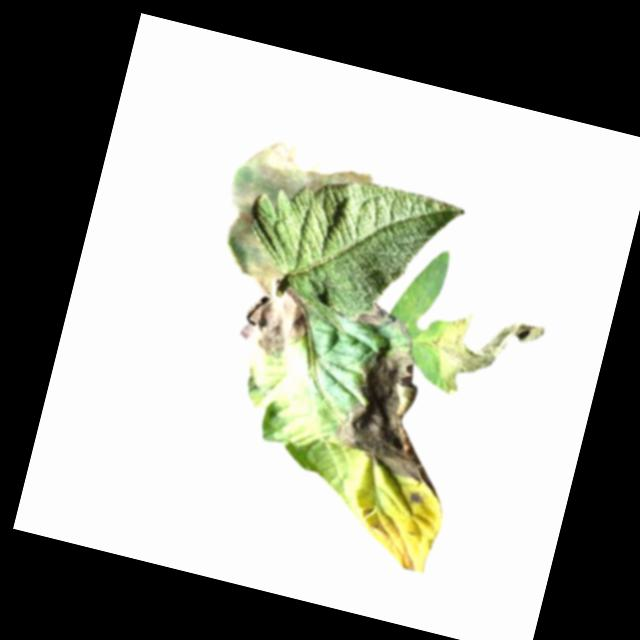Late_blight: (327, 335, 467, 488), (224, 131, 378, 241), (424, 301, 549, 415), (228, 273, 319, 365), (216, 212, 291, 284), (349, 299, 420, 340), (404, 489, 427, 506)
healthy: (231, 154, 468, 340)
